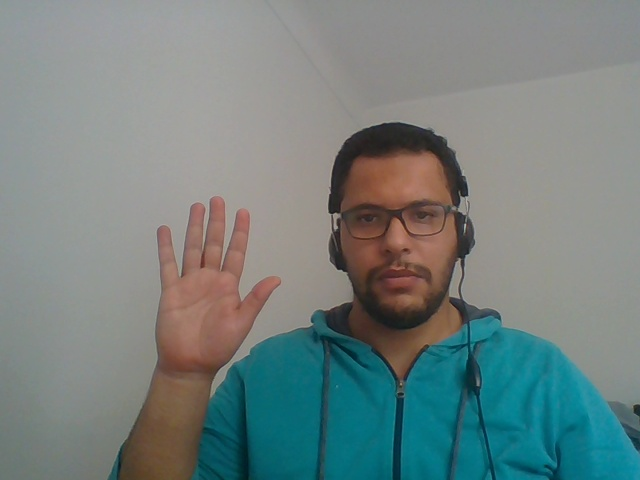hello: (136, 176, 288, 432)
